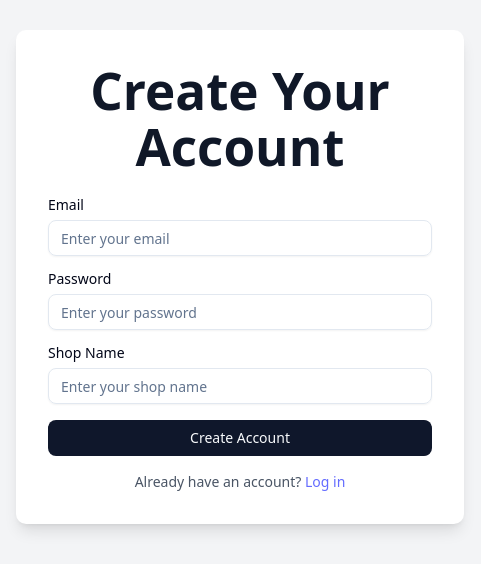
Scenario: RegistrationForm › Form Validation › shows error when password is empty
Type "test@example.com" into the field labelled "Email" at (240, 238), box [48,220,432,256]
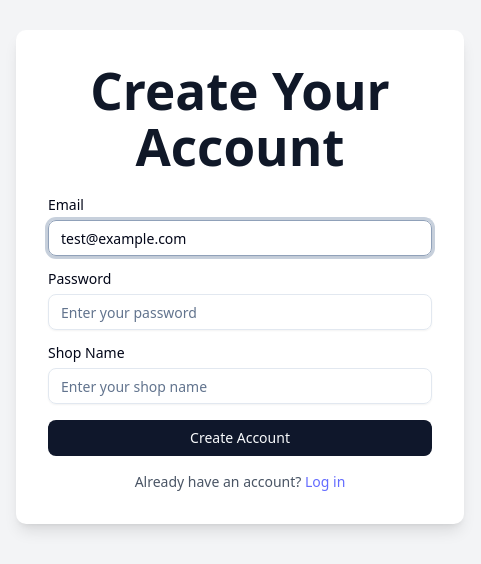
Type "Test Shop" into the field labelled "Shop Name" at (240, 386), box [48,368,432,404]
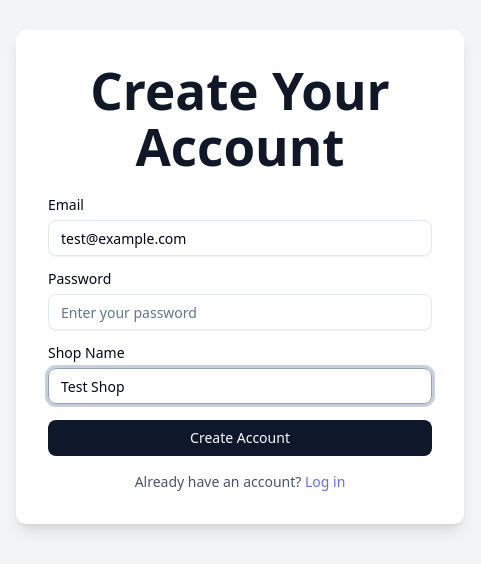
Click the button "Create Account" at (240, 438), box [48,420,432,456]
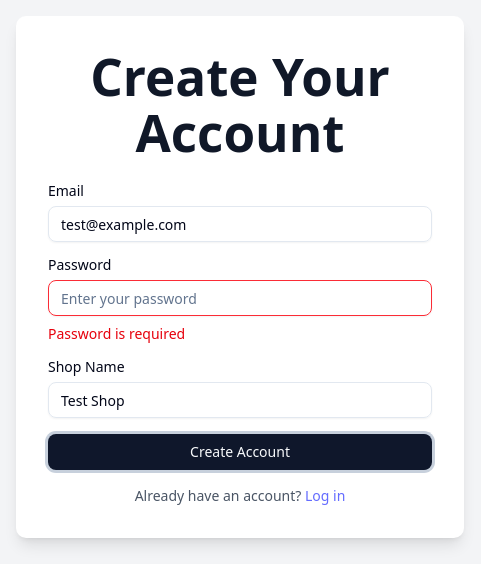
Expected: the text "Password is required" is shown, [48,324,185,343]
